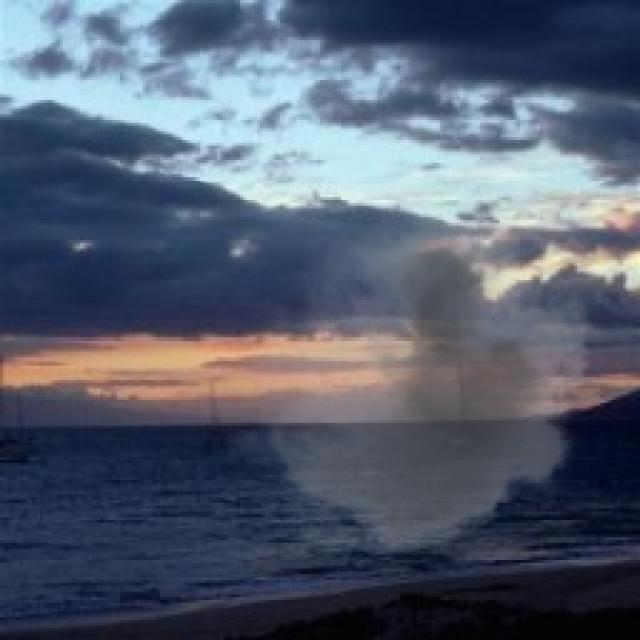Smoke: (226, 206, 608, 572)
